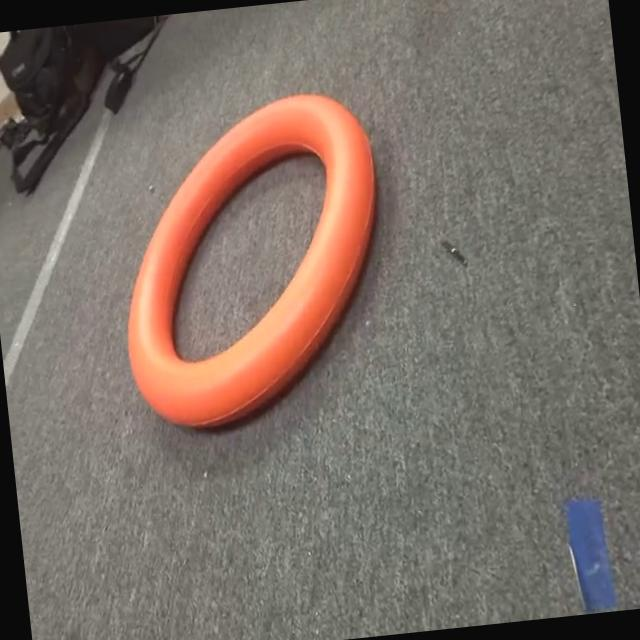note: (83, 74, 432, 448)
